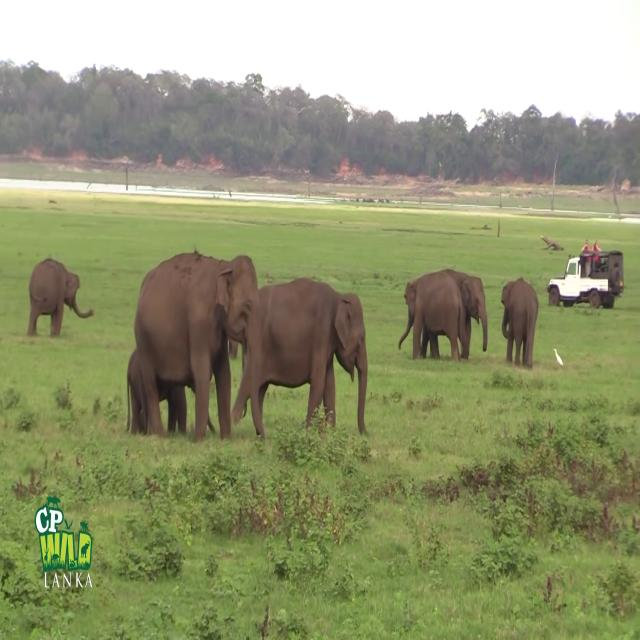Elephant: (129, 249, 264, 442), (230, 276, 368, 439), (400, 268, 490, 358), (27, 256, 94, 338), (501, 276, 538, 369)
